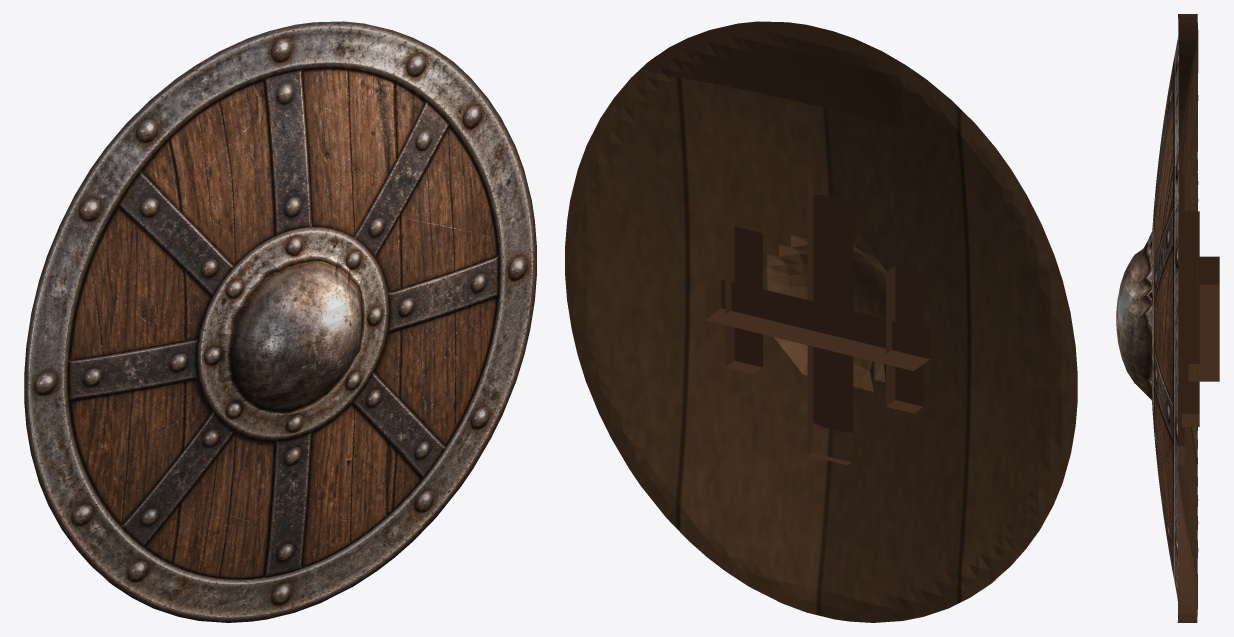
Rendered from shield-round.glb.
3 renders of one model, left to right at view 1: azimuth 30°, elevation 25°; view 2: azimuth 150°, elevation 25°; view 3: azimuth 270°, elevation 25°, orthographic. The views are drawn at different scales.
Parts seen in each view (by area): view 1: shield-round; view 2: shield-round; view 3: shield-round.
Part boxes in pixels (bbox=[...]): shield-round: bbox=[24, 21, 536, 622]; shield-round: bbox=[565, 21, 1077, 622]; shield-round: bbox=[1116, 14, 1219, 622].
Bounding box in the file's own units: 0.6383 × 0.6994 × 0.117.
1 material, 1 textured.
